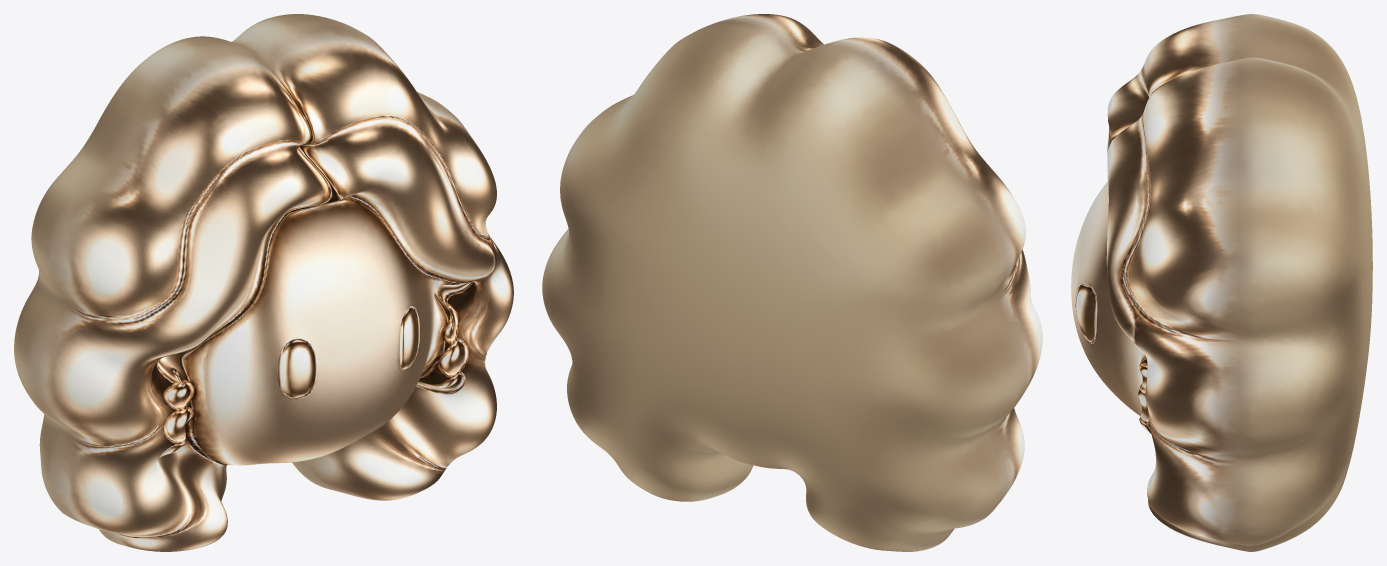
File: tina-avatar-reference-v2.glb
3 views of the same model, side by side, from view 1: azimuth 30°, elevation 25°; view 2: azimuth 150°, elevation 25°; view 3: azimuth 270°, elevation 25° (orthographic). The views are drawn at different scales.
Parts seen in each view (by area): view 1: Tina — reference-matched champagne portrait; view 2: Tina — reference-matched champagne portrait; view 3: Tina — reference-matched champagne portrait.
Part boxes in pixels (x1,y1,x2,y2): Tina — reference-matched champagne portrait: (14, 14, 513, 551); Tina — reference-matched champagne portrait: (542, 14, 1042, 551); Tina — reference-matched champagne portrait: (1071, 14, 1372, 551).
Size of the model in its own units: 2.44 by 2.4 by 1.46.
Materials: 2 (1 with a texture image).
